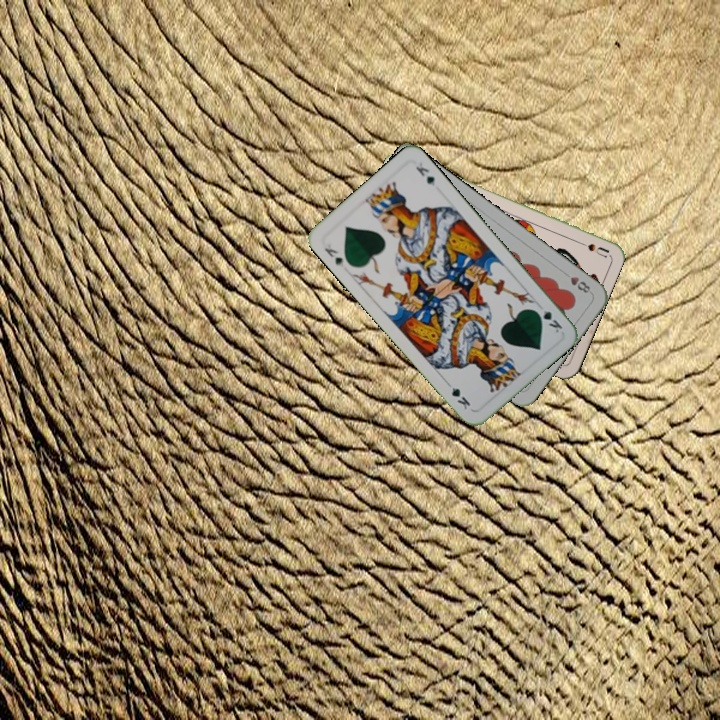GK: (530, 305, 565, 335), (320, 244, 346, 270)
H8: (559, 268, 593, 296)
SU: (571, 236, 611, 260)
